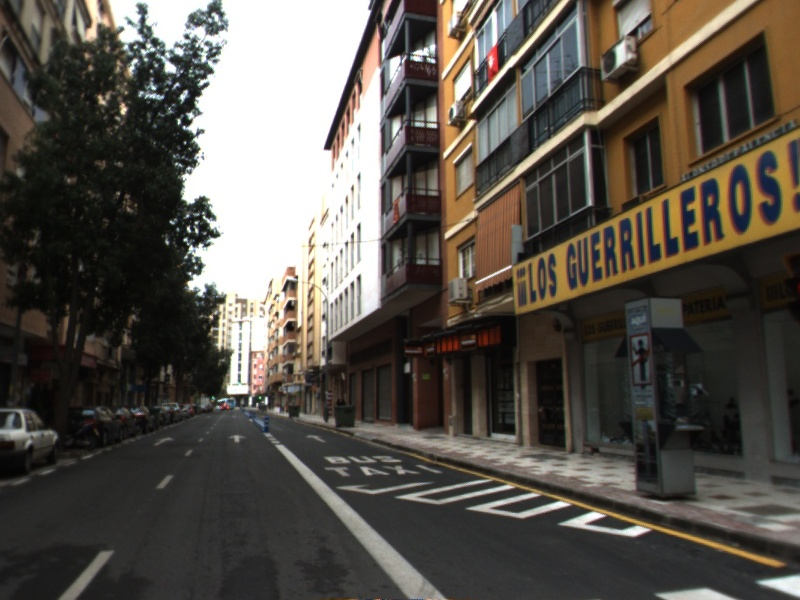STRAIGHT: (151, 435, 176, 448), (304, 432, 328, 444), (226, 432, 249, 444)
